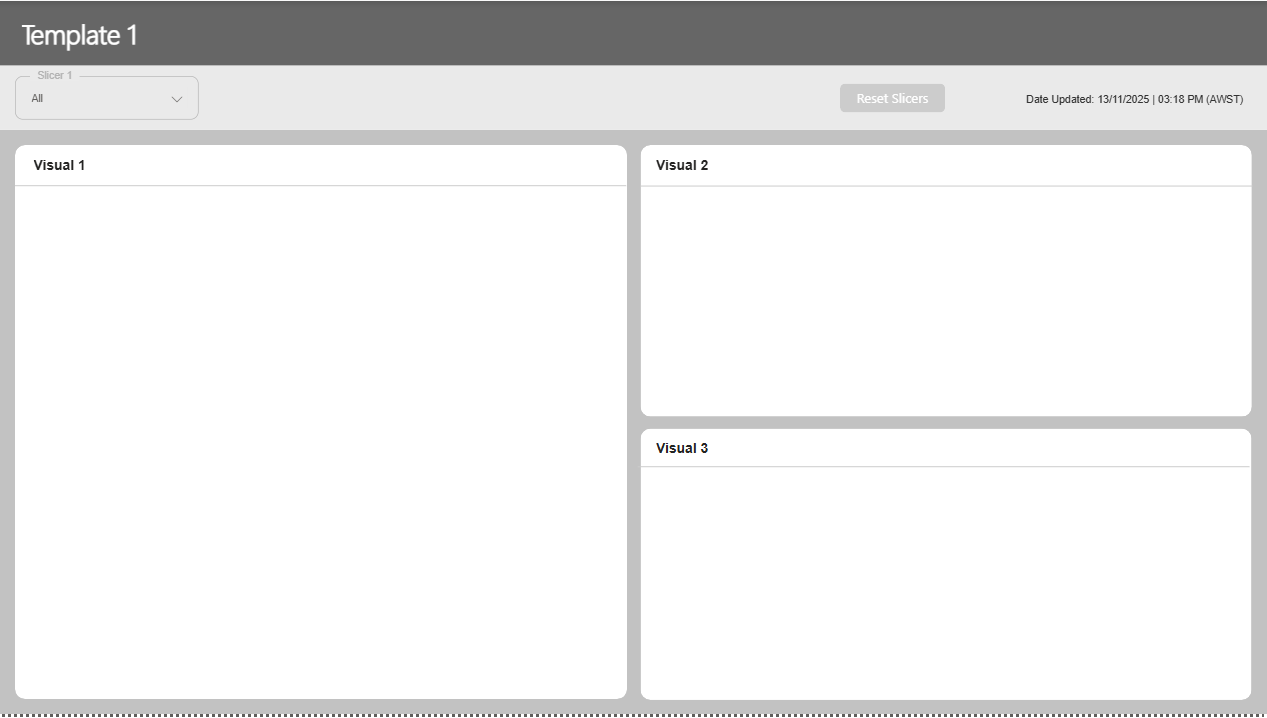

What the dashboard file says about the page in this screenshot:
{"tool":"powerbi","page":{"name":"Template 1","canvas":[1280,720],"ordinal":0},"visuals":[{"type":"shape","title":"Header Background","box":[0,0,1280,65],"z":0,"group":"g6"},{"type":"shape","title":"Slicer Background","box":[0,65,1280,65],"z":0,"group":"g5"},{"type":"slicer","title":"Slicer 1","fields":{"Values":["1.Measures.Value"]},"box":[15.9,76.2,185,43.8],"z":0,"group":"g1"},{"type":"shape","title":"Background","box":[0,130,1280,590],"z":0},{"type":"shape","title":"Visual 1 Background","box":[15,145.7,617.9,559.3],"z":0,"group":"g4"},{"type":"shape","title":"Visual 2 Background","box":[647.8,145.7,617.1,274.3],"z":0,"group":"g3"},{"type":"textbox","title":"Title","box":[16.7,8.3,646.7,51.7],"z":1000,"group":"g6"},{"type":"shape","title":"Slicer 1 Title","box":[31.1,70,50,10.7],"z":1000,"group":"g1"},{"type":"card","title":"Date Updated","fields":{"Values":["last_refresh.Display Date"]},"box":[1009.9,76.7,270.1,47.3],"z":1000,"group":"g5"},{"type":"textbox","box":[28.6,157.8,592.9,20],"z":1000,"group":"g4"},{"type":"shape","title":"Reset Filters","box":[848.6,83.8,106.2,29.1],"z":1250,"group":"g5"},{"type":"group","id":"g1","title":"Slicer 1","box":[15.9,70,185,50],"z":2000,"group":"g5"},{"type":"shape","title":"Visual 1 Line","box":[15.7,177.1,617.1,18.6],"z":2000,"group":"g4"},{"type":"shape","title":"Visual 2 Line","box":[647.1,177.1,617.9,19.3],"z":2000,"group":"g3"},{"type":"shape","title":"Visual 3 Background","box":[647.4,431.3,616.9,274.1],"z":2000,"group":"g2"},{"type":"shape","title":"Visual 3 Line","box":[644.1,460.5,617.9,19.6],"z":2250,"group":"g2"},{"type":"textbox","box":[657,444.1,290.8,20.6],"z":2500,"group":"g2"},{"type":"textbox","box":[657.7,158.5,289.8,19.6],"z":3000,"group":"g3"},{"type":"group","id":"g2","title":"Visual 3","box":[644.1,431.3,620.2,274.1],"z":4000},{"type":"group","id":"g3","title":"Visual 2","box":[647.1,145.7,617.9,274.3],"z":6000},{"type":"group","id":"g4","title":"Visual 1","box":[15,145.7,617.9,559.3],"z":6500},{"type":"group","id":"g5","title":"Slicer Bar","box":[0,65,1280,65],"z":6750},{"type":"group","id":"g6","title":"Header Bar","box":[0,0,1280,65],"z":7000}]}

Visuals, with their boxes in screenshot pixels (x1, y1, x2, y2), scaled from the page's 1280x720 canvas onto the 1267x718 screenshot:
"Header Background" shape: <box>0,0,1266,65</box>
"Slicer Background" shape: <box>0,65,1266,130</box>
"Slicer 1" slicer: <box>16,76,199,120</box>
"Background" shape: <box>0,130,1266,717</box>
"Visual 1 Background" shape: <box>15,145,626,703</box>
"Visual 2 Background" shape: <box>641,145,1252,419</box>
"Title" textbox: <box>17,8,657,60</box>
"Slicer 1 Title" shape: <box>31,70,80,80</box>
"Date Updated" card: <box>1000,76,1266,124</box>
textbox: <box>28,157,615,177</box>
"Reset Filters" shape: <box>840,84,945,113</box>
"Slicer 1" group: <box>16,70,199,120</box>
"Visual 1 Line" shape: <box>16,177,626,195</box>
"Visual 2 Line" shape: <box>641,177,1252,196</box>
"Visual 3 Background" shape: <box>641,430,1251,703</box>
"Visual 3 Line" shape: <box>638,459,1249,479</box>
textbox: <box>650,443,938,463</box>
textbox: <box>651,158,938,178</box>
"Visual 3" group: <box>638,430,1251,703</box>
"Visual 2" group: <box>641,145,1252,419</box>
"Visual 1" group: <box>15,145,626,703</box>
"Slicer Bar" group: <box>0,65,1266,130</box>
"Header Bar" group: <box>0,0,1266,65</box>
